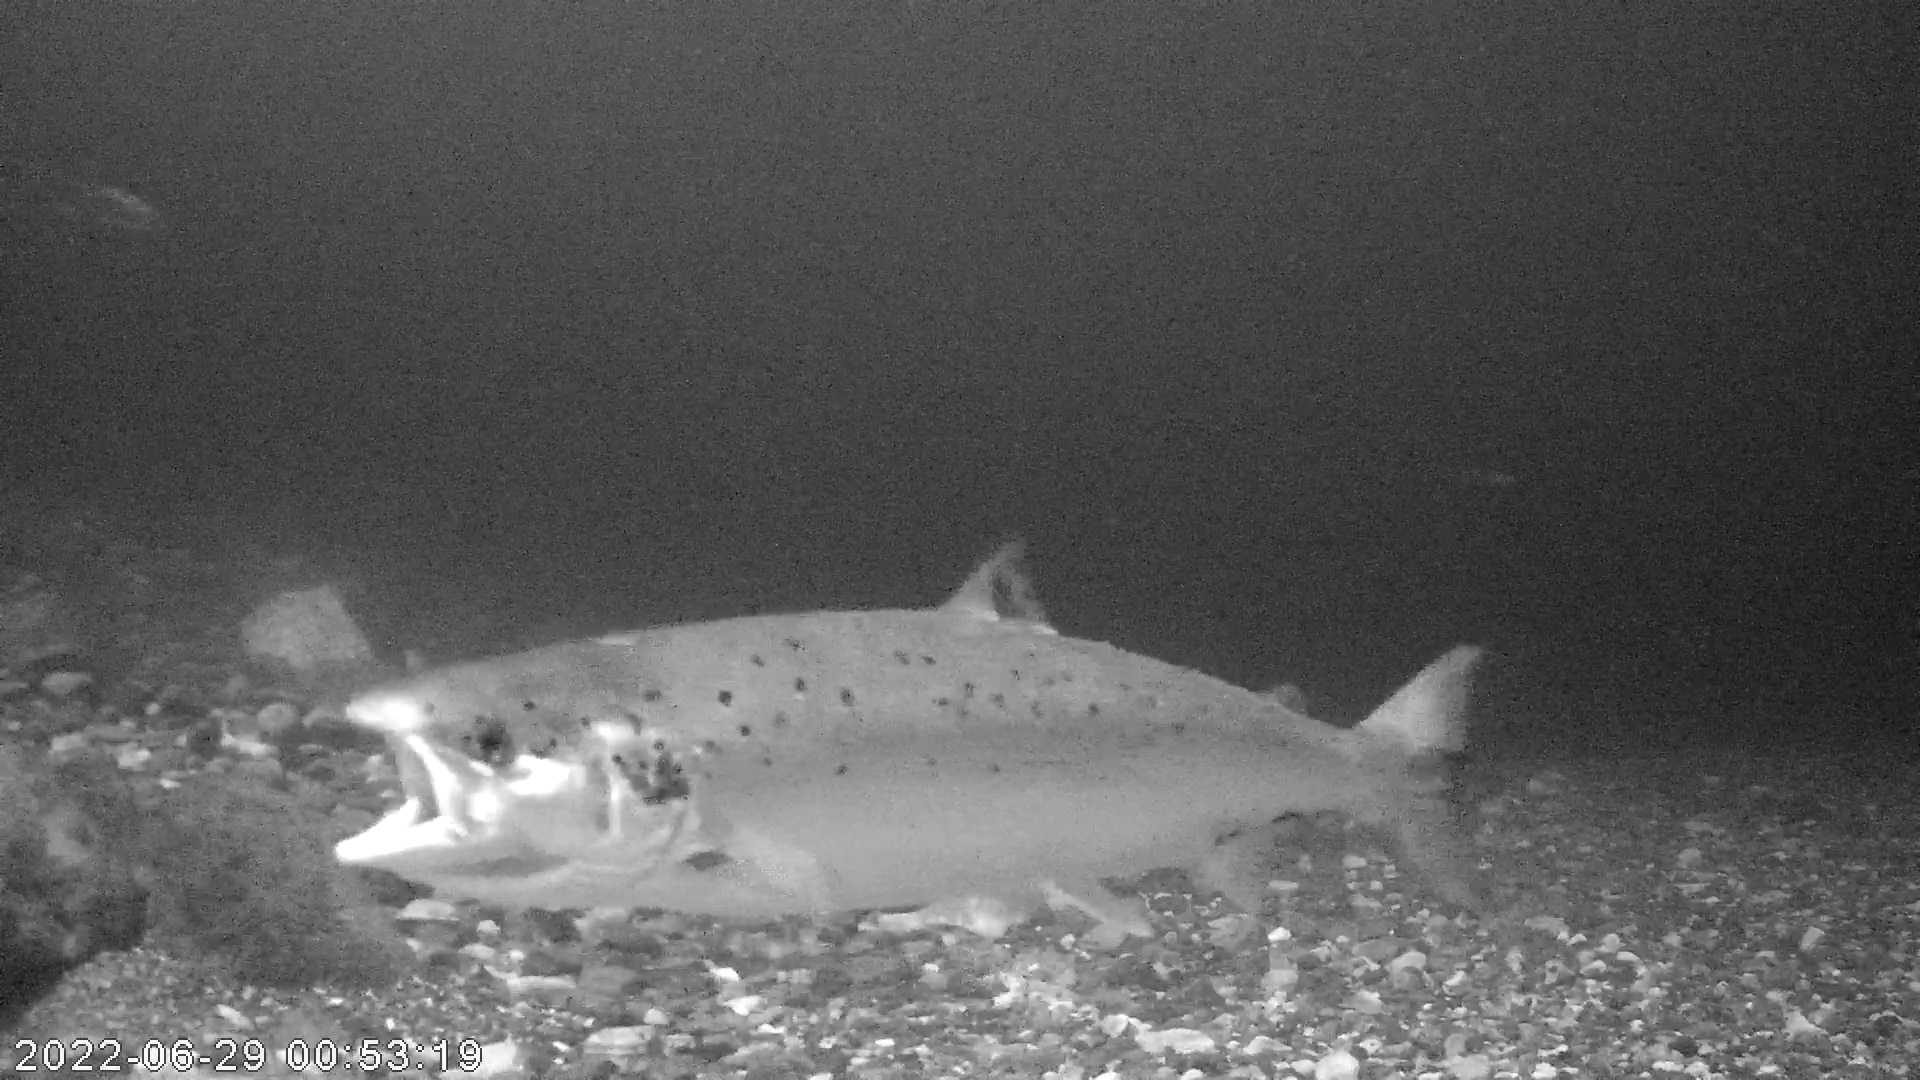salmon: (330, 524, 1491, 952)
